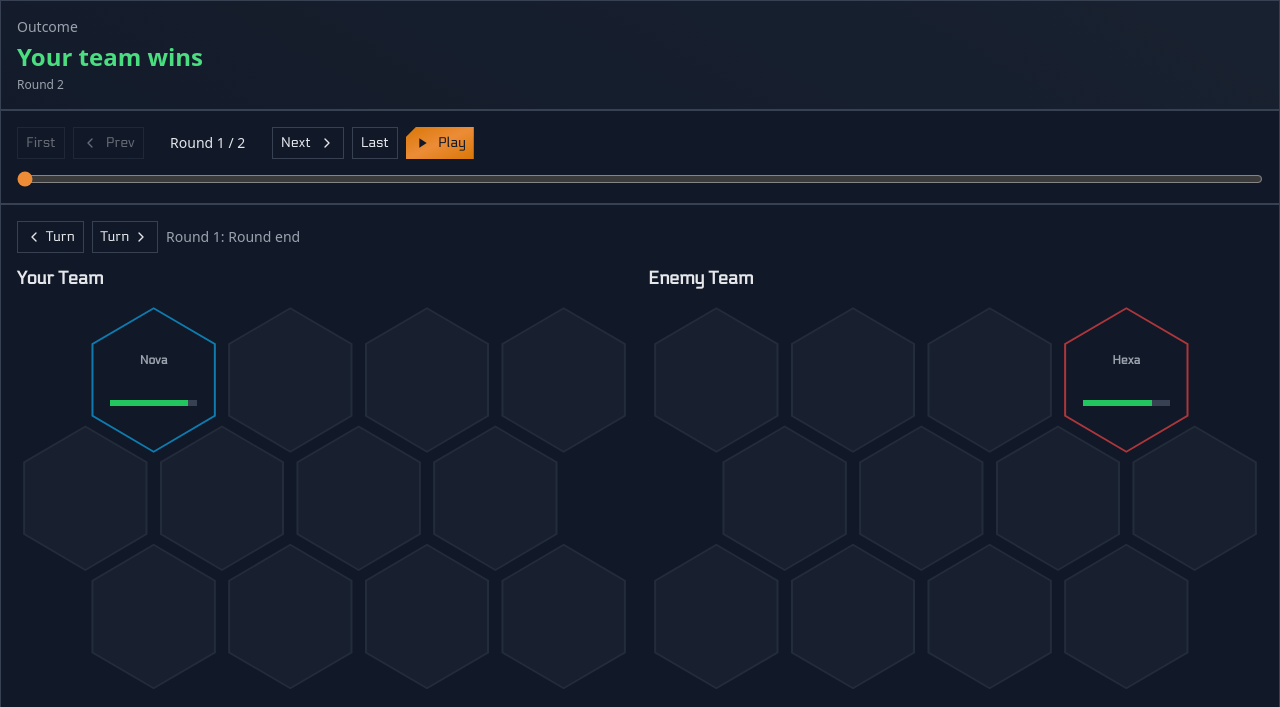
Test case: BattlePlayback turn by turn › Play runs the turns through the rounds and stops at the end
Click the button labelled "Play" at (440, 143), box x1=406 y1=127 x2=474 y2=159
Wait 6300 ms
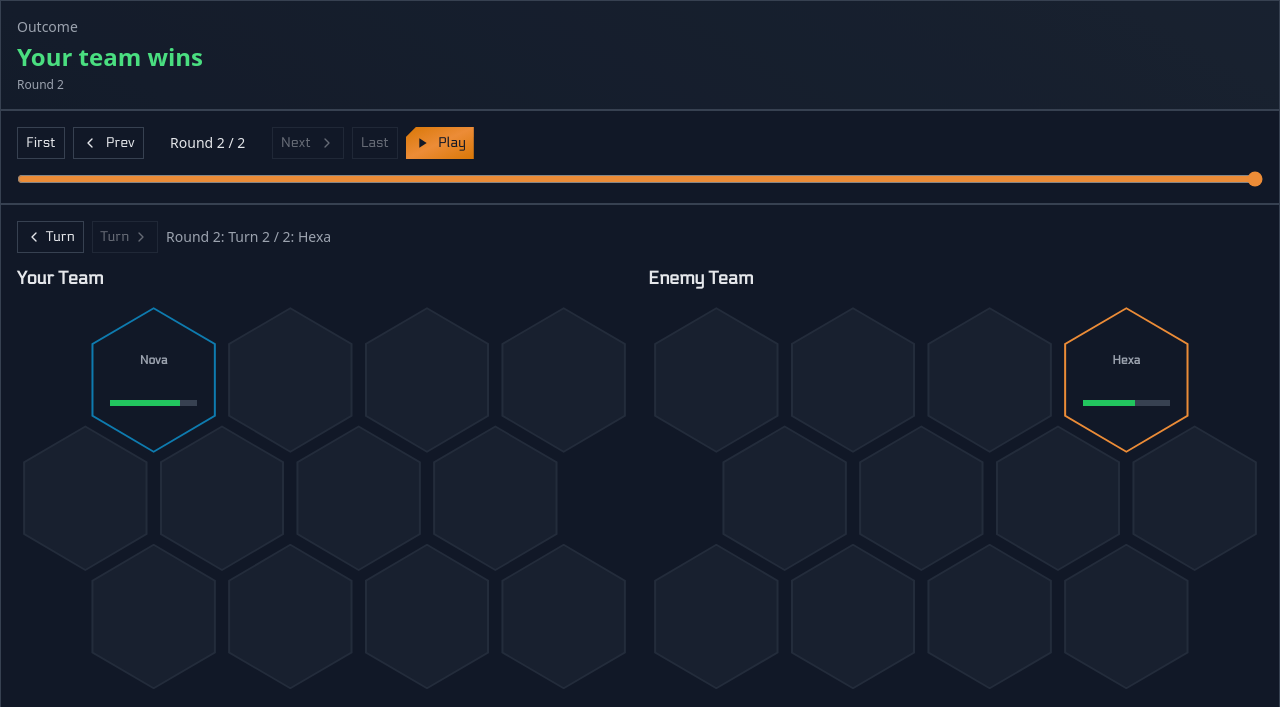
Result: the text "Round 2: Turn 2 / 2: Hexa" is shown at x1=166 y1=227 x2=331 y2=247
